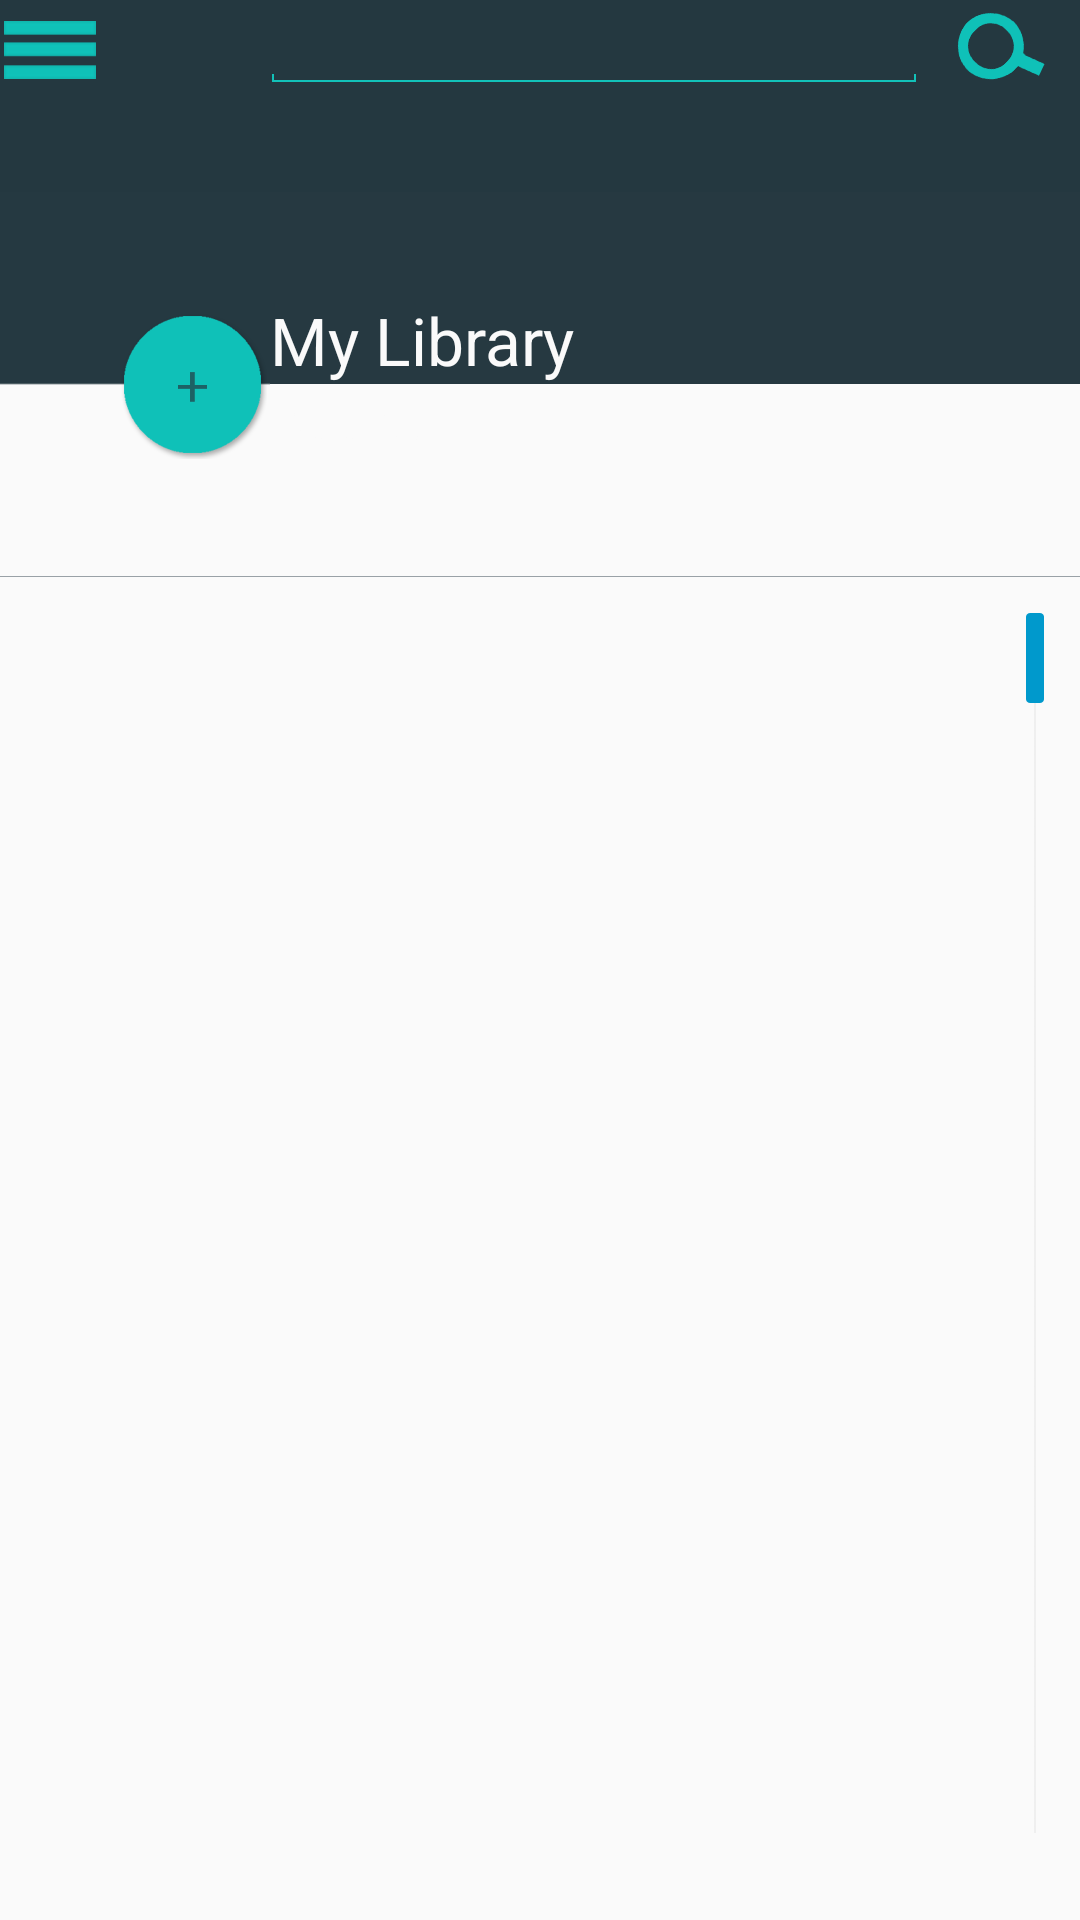

Where to tap for icons on this 1080x1920 app screen, as [x,y]:
optbtn: [50,50]
plusbtn: [192,384]
searchbtn: [1001,46]
